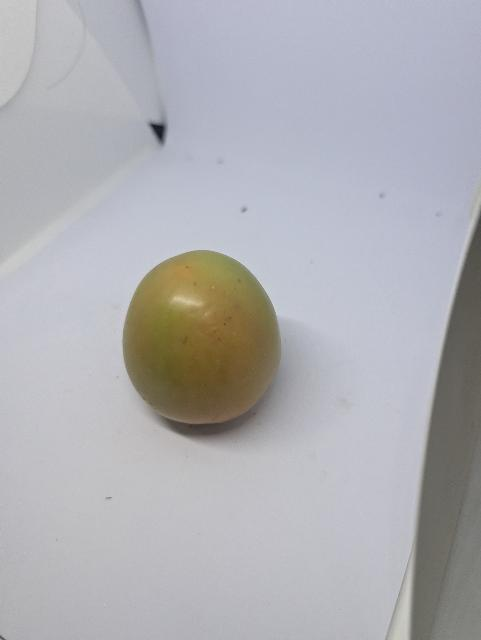breaker: (120, 245, 283, 430)
